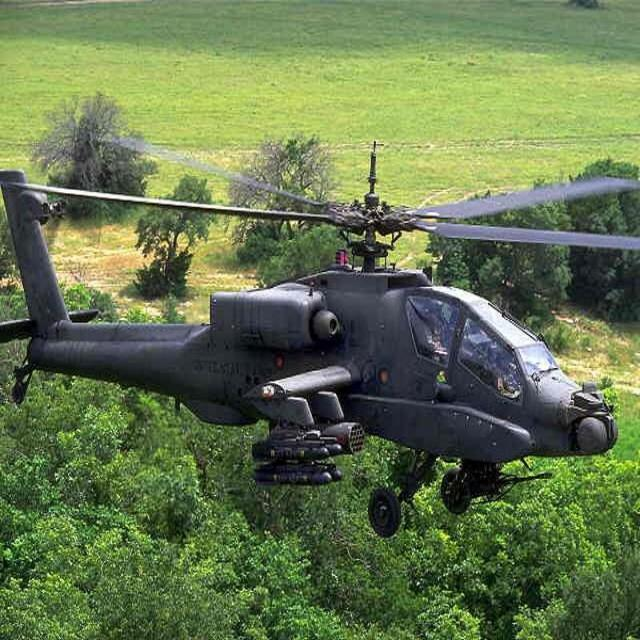MIL_HELO: (13, 124, 640, 545)
